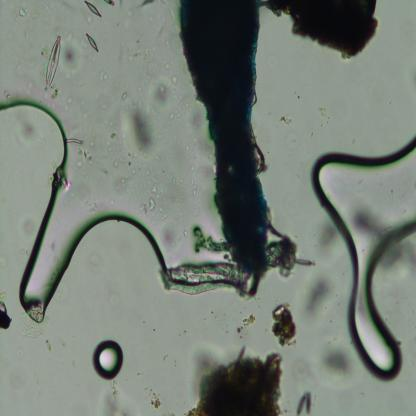Air bubble: (312, 137, 416, 380), (15, 119, 118, 322), (0, 96, 67, 169), (94, 338, 124, 380), (44, 35, 62, 91)
Background material: (268, 0, 380, 67), (190, 342, 286, 414), (268, 222, 313, 277), (322, 342, 359, 386), (126, 101, 154, 158), (351, 198, 385, 241), (300, 276, 331, 318), (274, 300, 299, 347), (15, 307, 49, 338), (382, 239, 416, 270), (315, 222, 341, 256), (100, 389, 134, 414), (61, 40, 82, 72), (234, 312, 256, 338), (294, 390, 314, 415), (153, 80, 172, 106), (0, 291, 12, 331), (65, 132, 86, 151), (146, 385, 162, 409), (277, 115, 294, 127), (146, 197, 156, 212), (18, 7, 28, 18)
Cellulose filter fibre: (159, 259, 251, 294)
Diatom: (86, 0, 103, 18), (86, 33, 99, 54)
Fragment: (178, 0, 270, 274)
